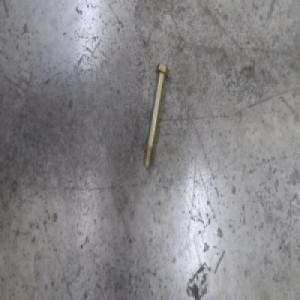Bolt: (142, 62, 170, 170)
